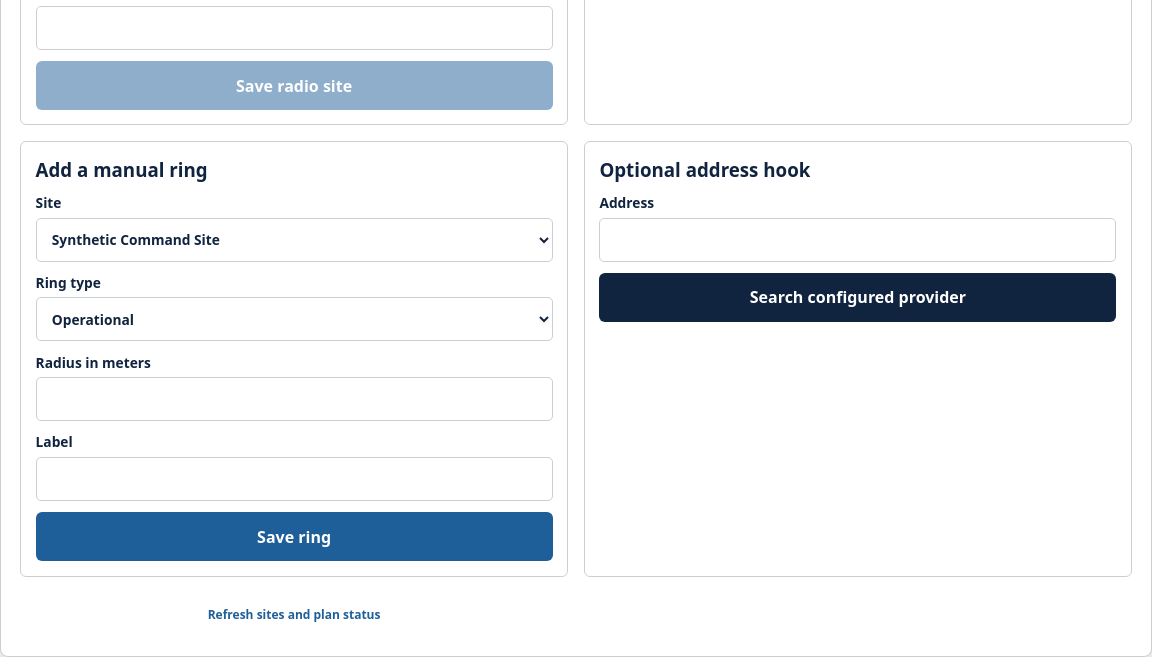
Test: resets the captured manual-ring form only after a successful save
(page scrolled)
Expected: the form "Save ring" is shown, [20,142,568,577]
Type "1000" into the number field labelled "Radius in meters" at (294, 399), box [36,377,553,421]
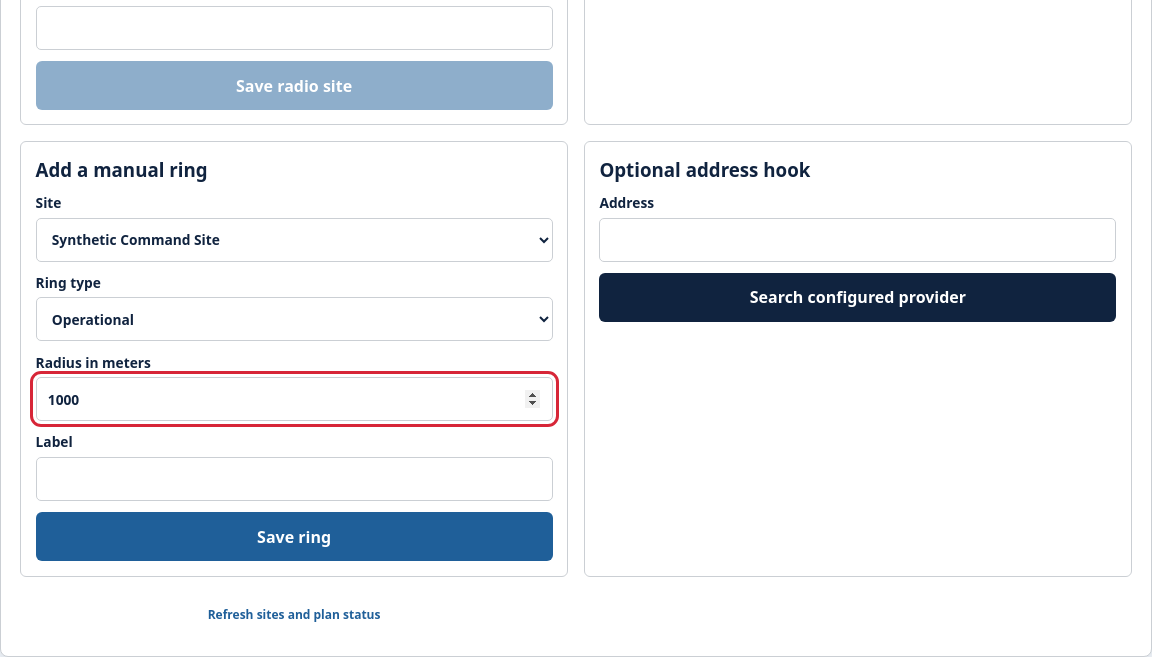
Type "Synthetic operating area" into the field labelled "Label" at (294, 479), box [36,457,553,501]
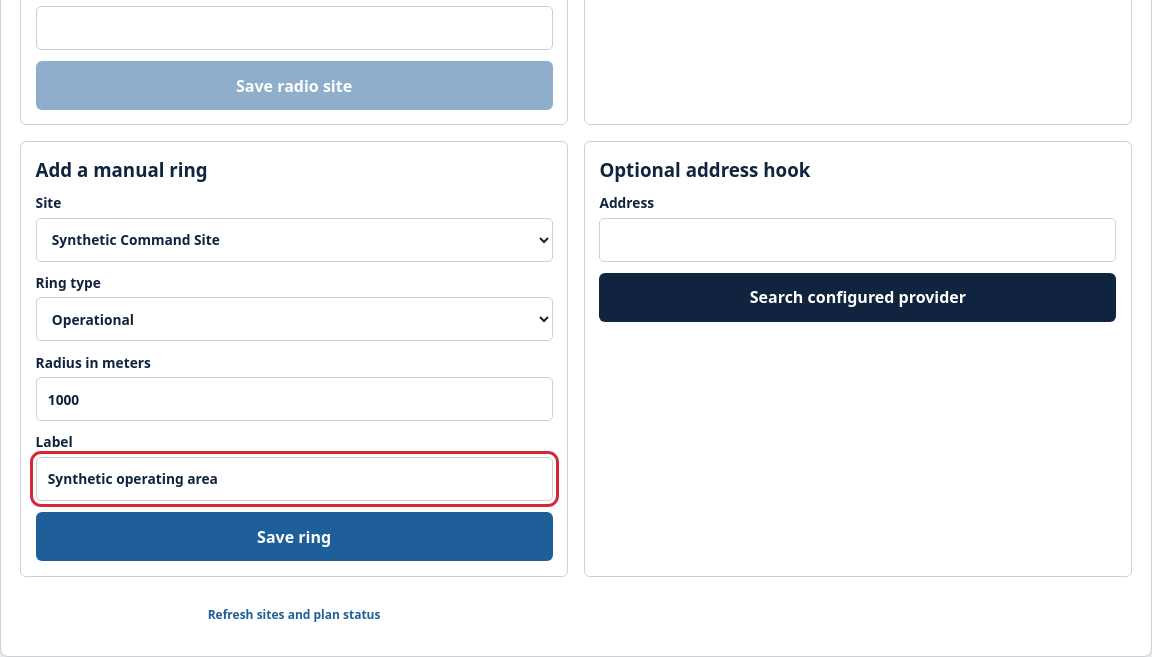
Click the button "Save ring" at (294, 537), box [36,512,553,561]
(page scrolled)
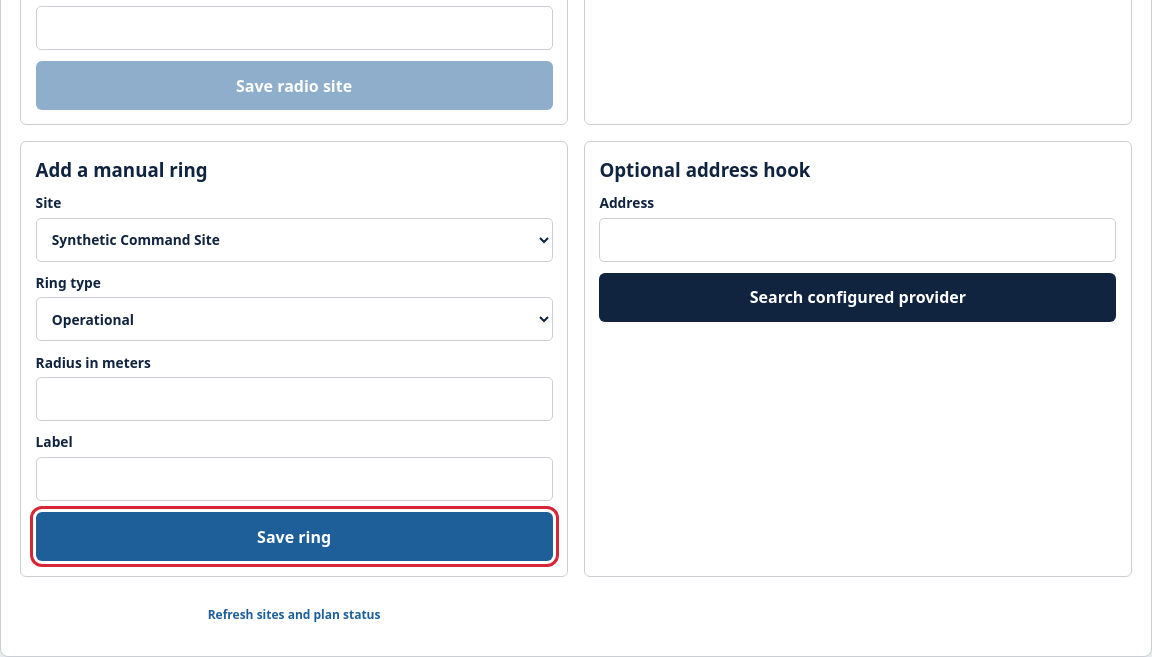
Expected: the number field labelled "Radius in meters" is not empty, [36,377,553,421]
Expected: the field labelled "Label" is empty, [36,457,553,501]
